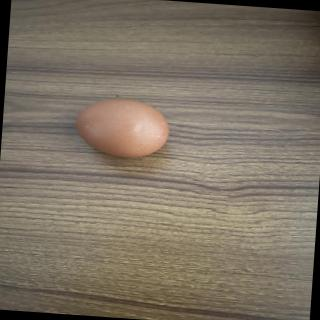Telur: (71, 95, 175, 165)
